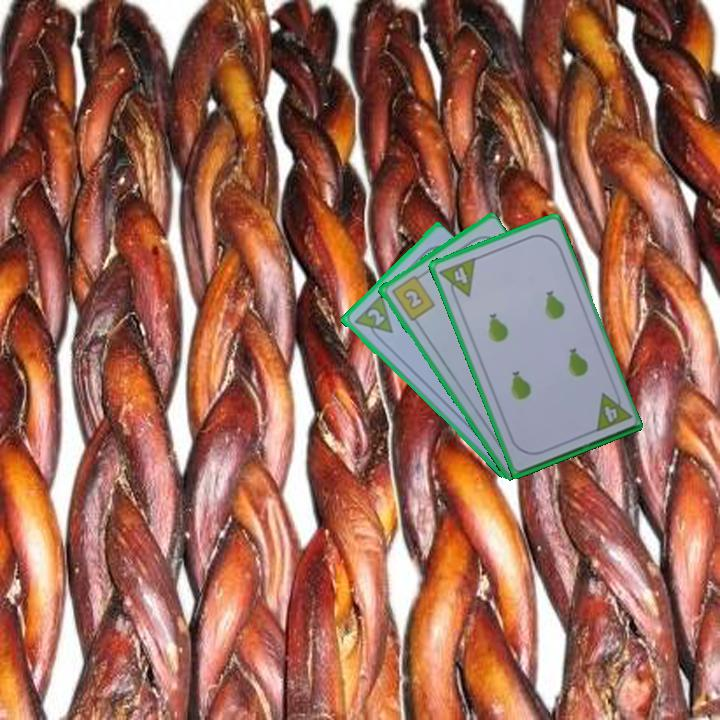2b: (387, 270, 438, 324)
2p: (363, 305, 387, 329)
4p: (436, 254, 478, 304), (591, 386, 633, 434)
